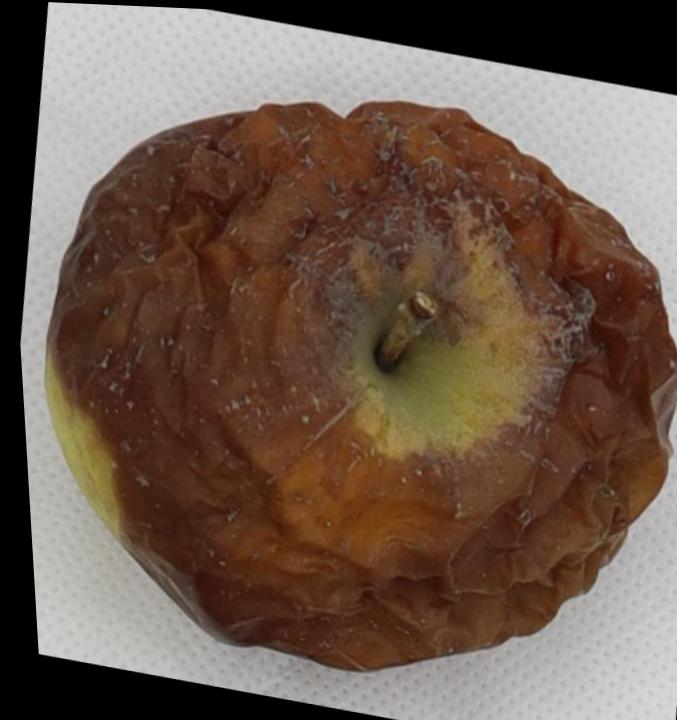apple: (43, 102, 675, 669)
rot_mold_decay: (48, 102, 675, 669)
